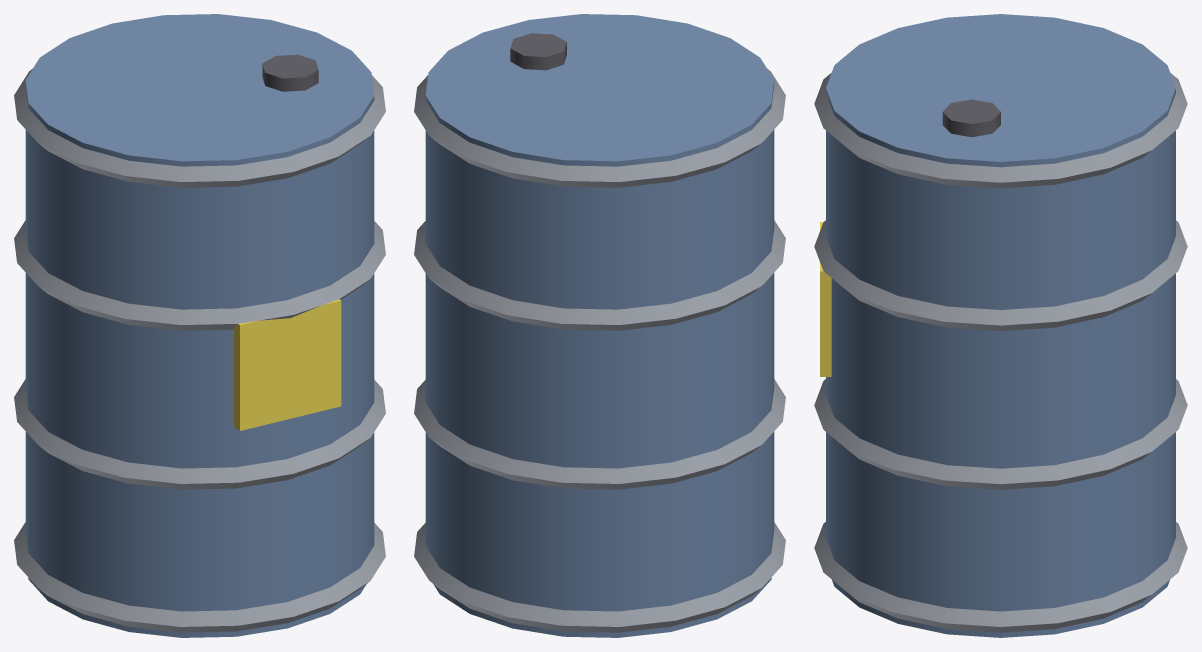
The model's file is rs_oil_drum.glb.
3 views of the same model, side by side, from view 1: azimuth 30°, elevation 25°; view 2: azimuth 150°, elevation 25°; view 3: azimuth 270°, elevation 25° (orthographic).
Visible parts, largest first — view 1: rs_oil_drum; view 2: rs_oil_drum; view 3: rs_oil_drum.
Boxes of the visible parts, left/top/right/bottom form: rs_oil_drum: left=14, top=14, right=385, bottom=637; rs_oil_drum: left=414, top=14, right=785, bottom=637; rs_oil_drum: left=814, top=14, right=1187, bottom=637.
Bounding box in the file's own units: 0.64 × 0.925 × 0.64.
